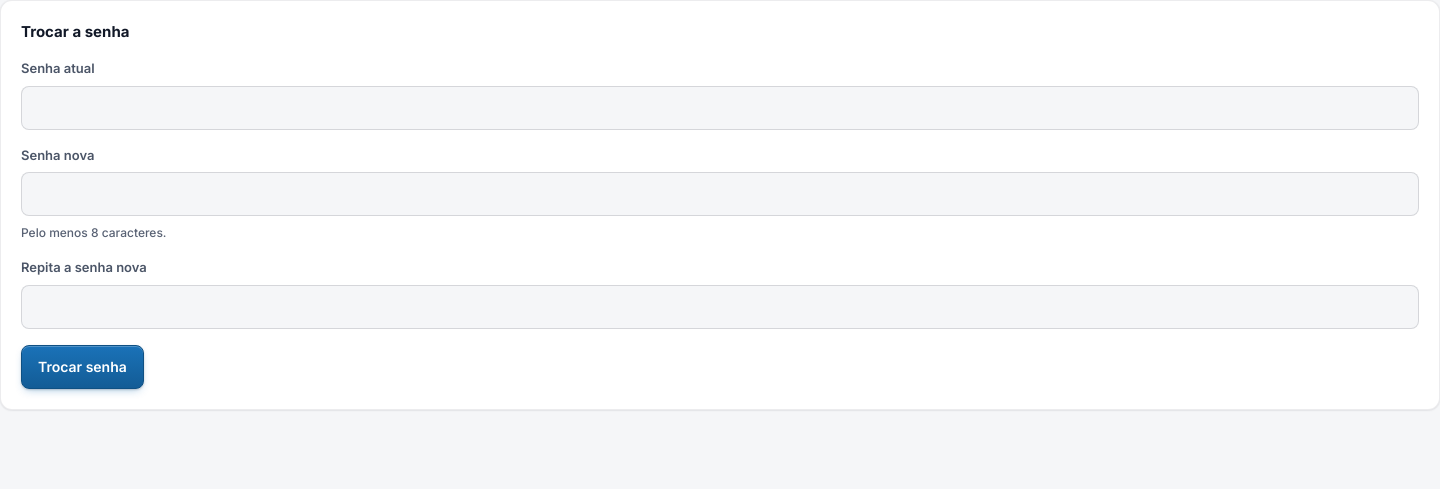
Test: ChangePasswordForm › não envia se as duas senhas novas forem diferentes
This screenshot has width=1440, height=489.
Type "atual-12345" into the password field labelled "Senha atual".
click(720, 108); type("atual-12345")  # box [21,86,1419,130]
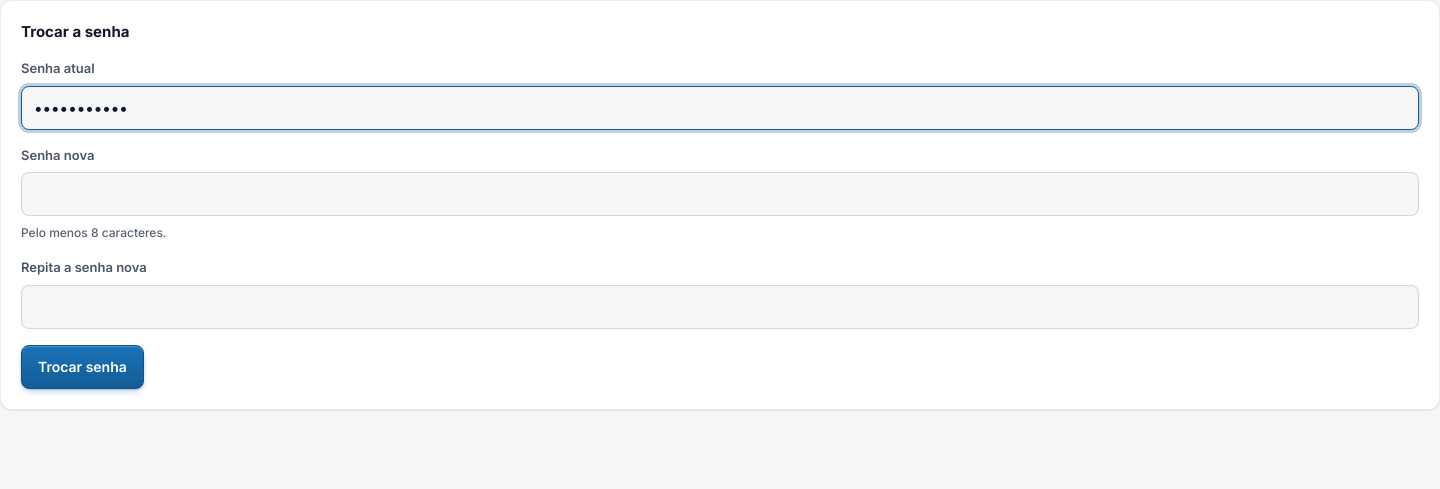
Type "nova-senha-1" into the password field labelled "Senha nova".
click(720, 194); type("nova-senha-1")  # box [21,172,1419,216]
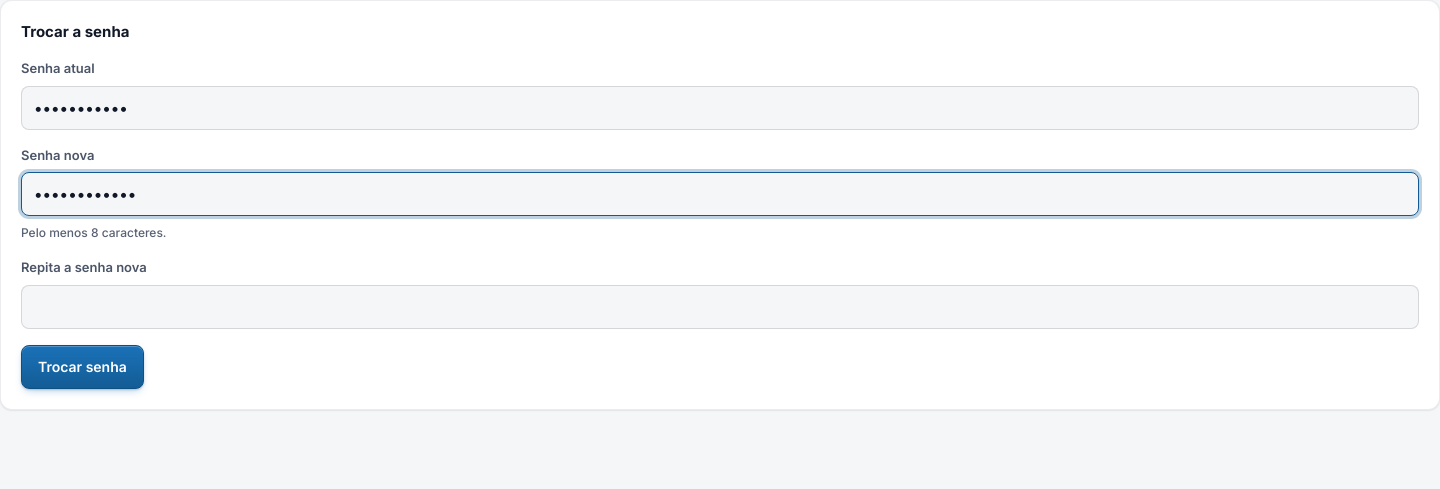
Type "nova-senha-2" into the password field labelled "Repita a senha nova".
click(720, 307); type("nova-senha-2")  # box [21,285,1419,329]
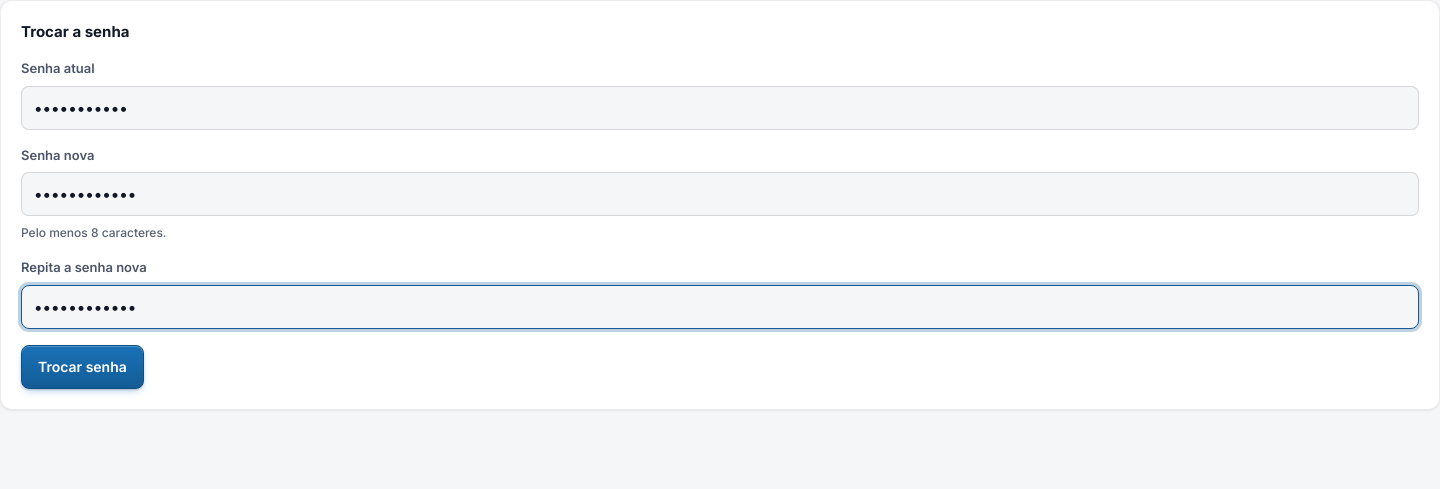
Submit the form named "Trocar senha"
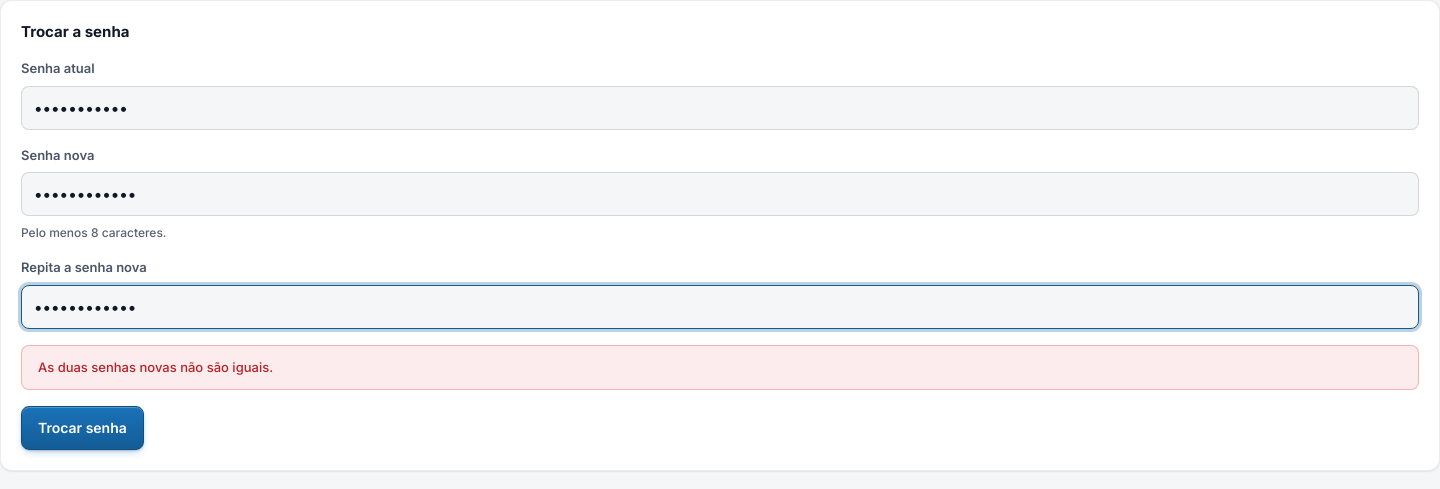
Expected: the message shows "não são iguais", [38,359,273,375]
